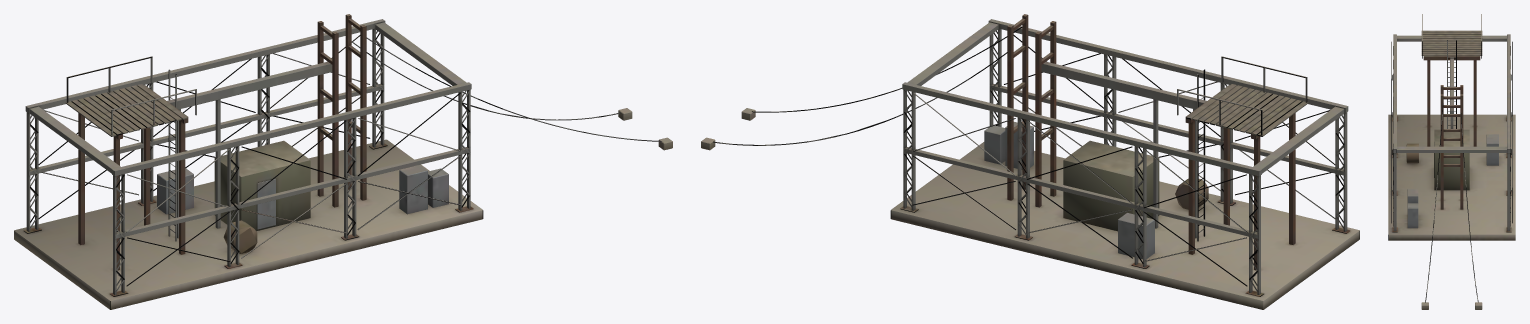
File: test_rig-low.glb
3 renders of one model, left to right at view 1: azimuth 30°, elevation 25°; view 2: azimuth 150°, elevation 25°; view 3: azimuth 270°, elevation 25°, orthographic. The views are drawn at different scales.
Visible parts, largest first — view 1: test_rig; view 2: test_rig; view 3: test_rig.
Boxes of the visible parts, x1=… form: test_rig: x1=14, y1=14, x2=672, y2=309; test_rig: x1=701, y1=14, x2=1359, y2=309; test_rig: x1=1388, y1=14, x2=1515, y2=309.
Bounding box in the file's own units: 25.19 × 7.48 × 7.17.
Materials: 2 (2 with a texture image).
